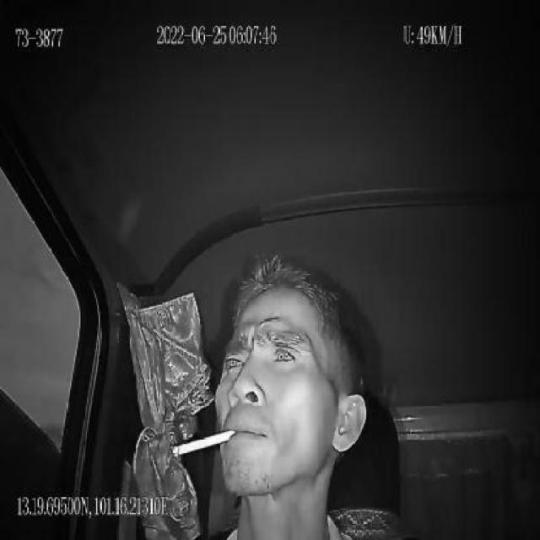smoking: (173, 428, 239, 460)
